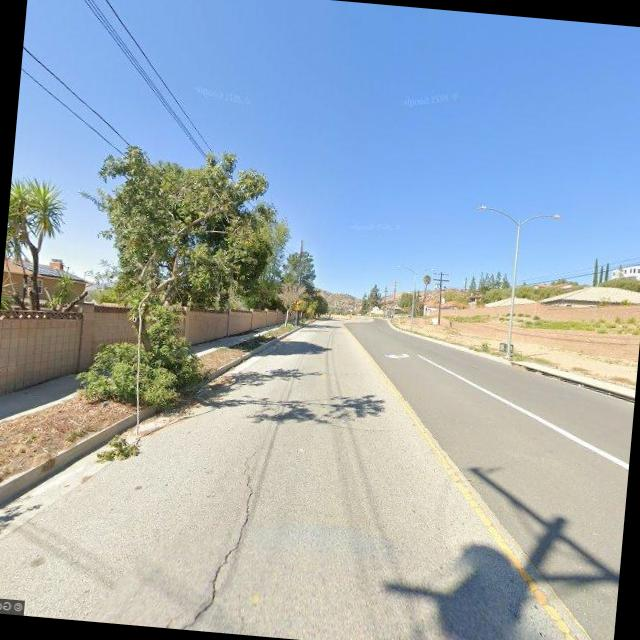pothole: (182, 435, 262, 634)
